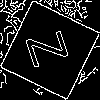Z: (25, 25, 79, 69)
